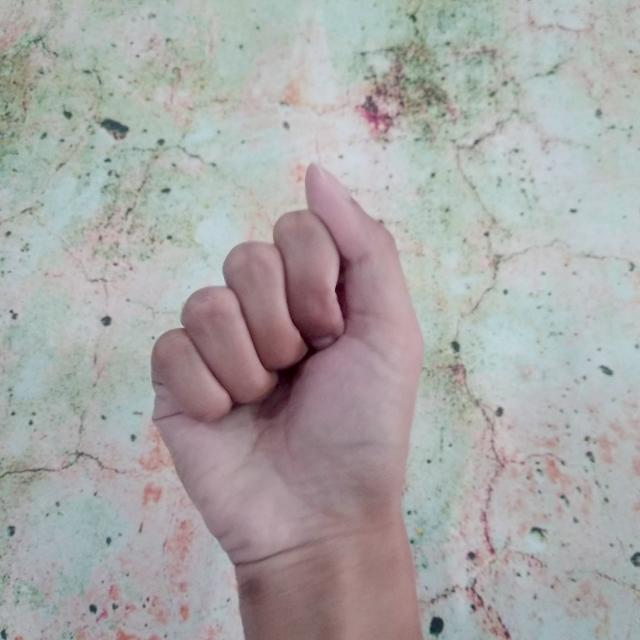A: (142, 154, 438, 640)
